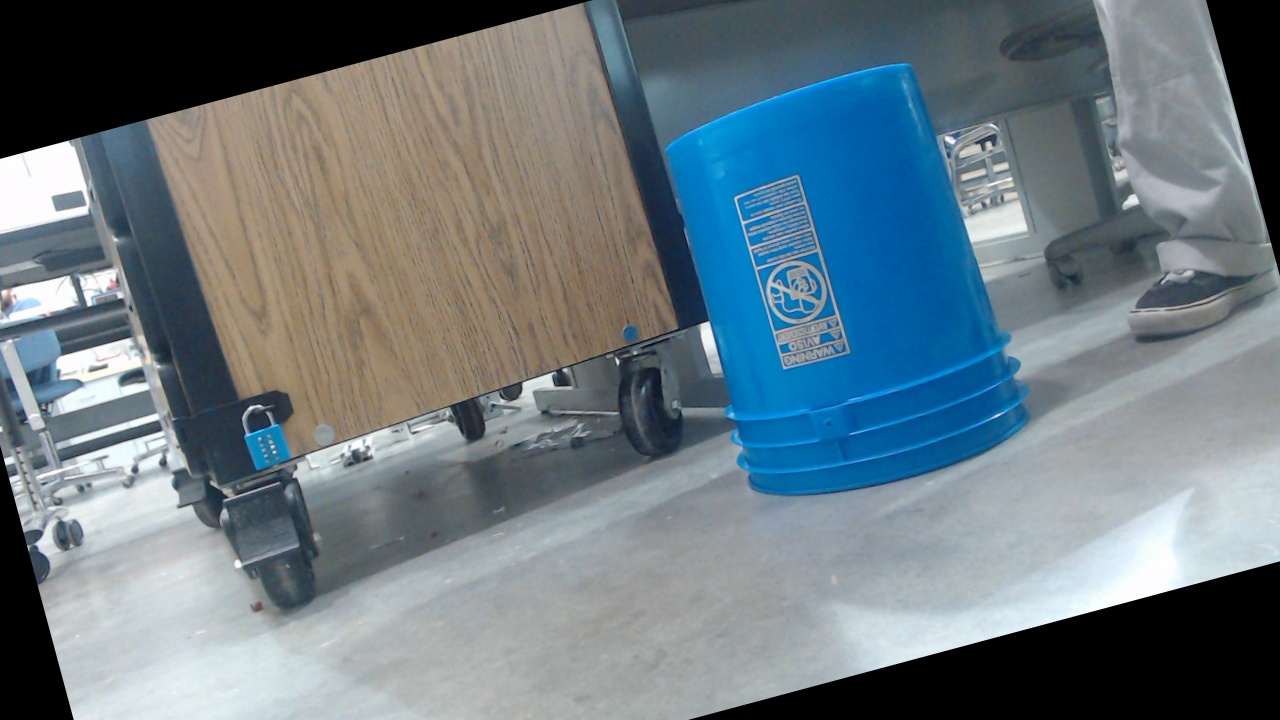blue_bucket: (656, 161, 1063, 645)
